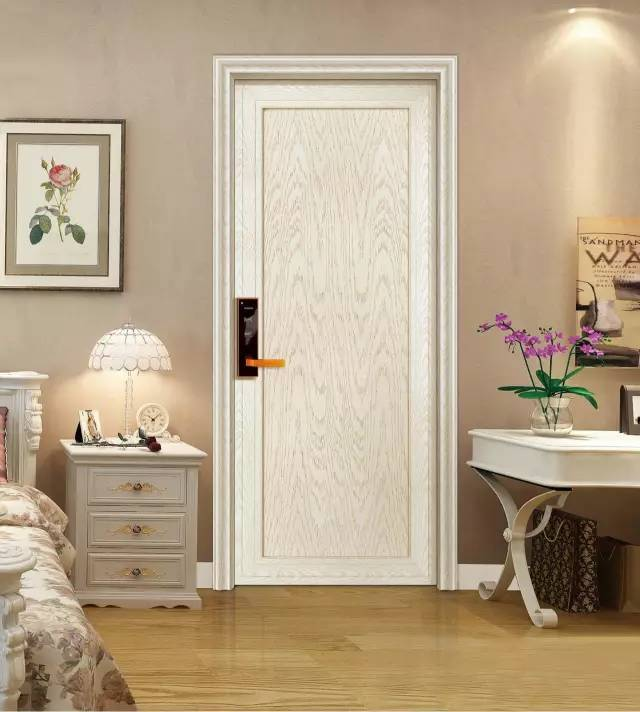door: (220, 71, 450, 593)
